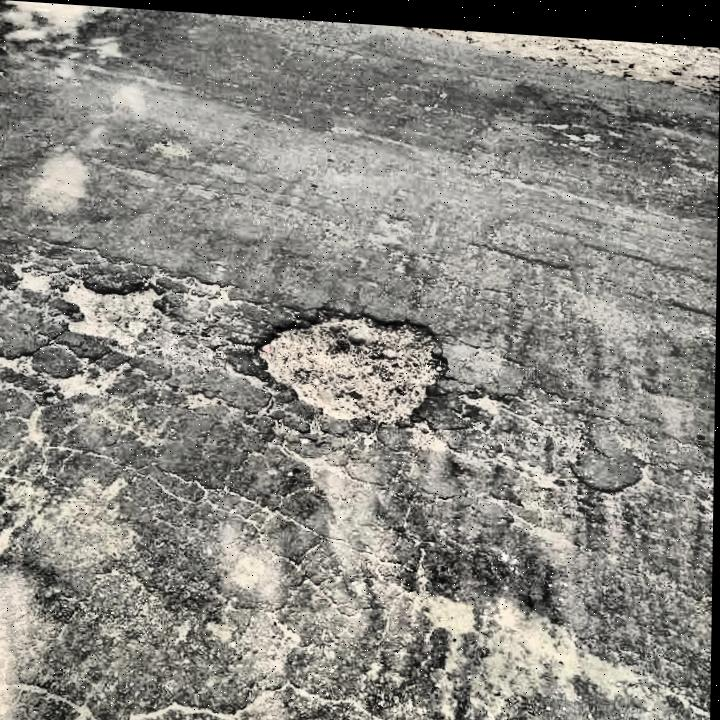pothole: (251, 295, 450, 424), (58, 269, 169, 345)
